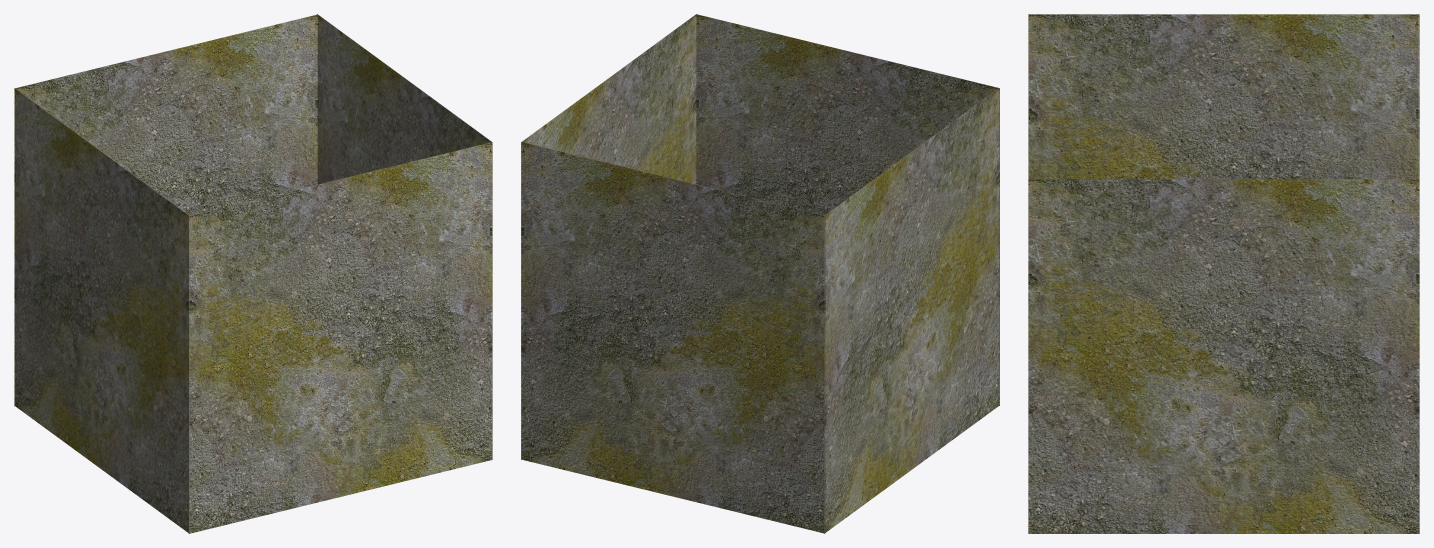
File: puro_wall.obj
The picture shows the model from 3 angles, left to right: view 1: azimuth 30°, elevation 25°; view 2: azimuth 150°, elevation 25°; view 3: azimuth 270°, elevation 25°; orthographic projection. The views are drawn at different scales.
Visible parts, largest first — view 1: Cube_Cube.001, Cube_Cube.002, Cube_Cube.000, Cube_Cube.003; view 2: Cube_Cube.000, Cube_Cube.002, Cube_Cube.001, Cube_Cube.003; view 3: Cube_Cube.003, Cube_Cube.002.
Part boxes in pixels (x1=…): Cube_Cube.001: x1=188, y1=142, x2=492, y2=533; Cube_Cube.002: x1=14, y1=88, x2=189, y2=533; Cube_Cube.000: x1=14, y1=14, x2=317, y2=406; Cube_Cube.003: x1=317, y1=14, x2=492, y2=459; Cube_Cube.000: x1=522, y1=142, x2=825, y2=533; Cube_Cube.002: x1=824, y1=88, x2=999, y2=533; Cube_Cube.001: x1=696, y1=14, x2=999, y2=405; Cube_Cube.003: x1=521, y1=14, x2=696, y2=459; Cube_Cube.003: x1=1028, y1=179, x2=1419, y2=533; Cube_Cube.002: x1=1028, y1=14, x2=1419, y2=179.
Bounding box in the file's own units: 100 × 100 × 100.
Materials: 4 (4 with a texture image).
